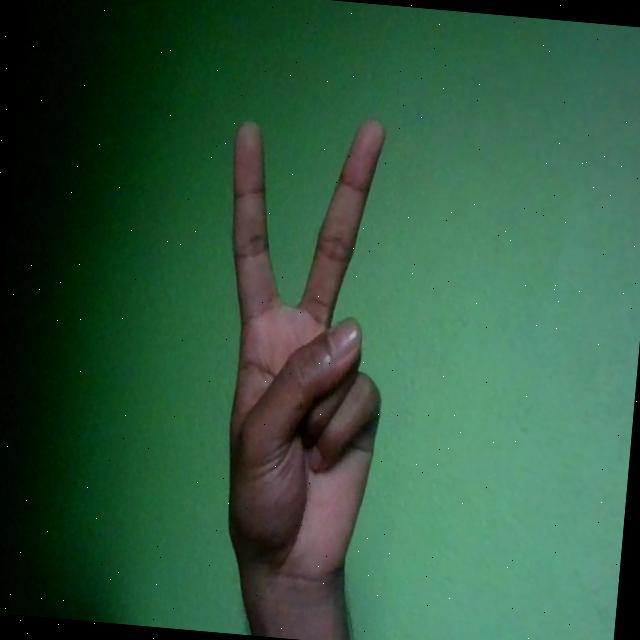Fist: (193, 105, 406, 598)
